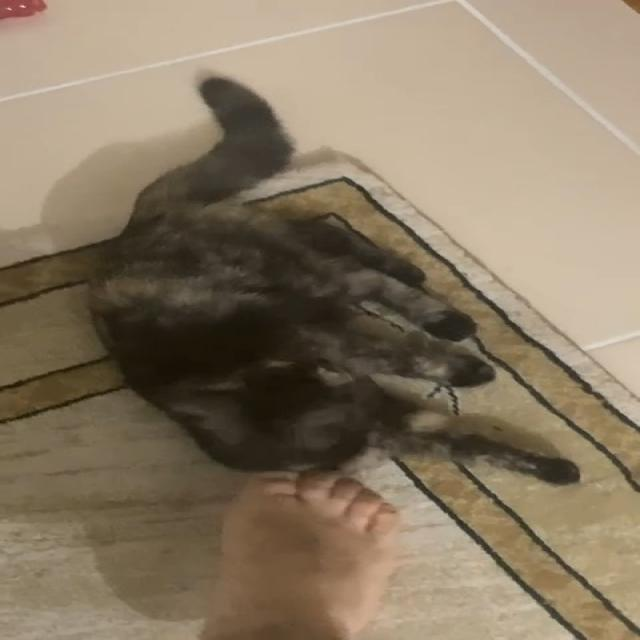authorized: (1, 69, 582, 486)
